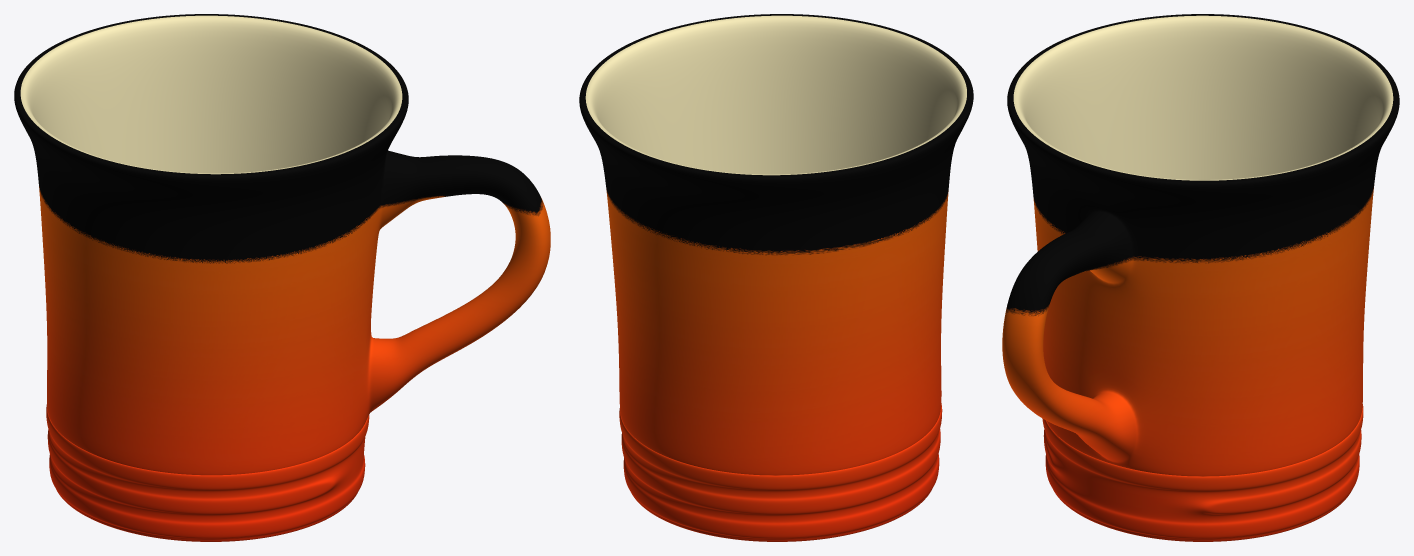
File: mug.glb
3 views of the same model, side by side, from view 1: azimuth 30°, elevation 25°; view 2: azimuth 150°, elevation 25°; view 3: azimuth 270°, elevation 25° (orthographic).
Visible parts, largest first — view 1: Mug; view 2: Mug; view 3: Mug.
Part boxes in pixels (x1,y1,x2,y2): Mug: (14,14,550,541); Mug: (579,14,973,541); Mug: (1002,14,1399,541).
Size of the model in its own units: 363 by 319 by 299.
Materials: 2 (1 with a texture image).
